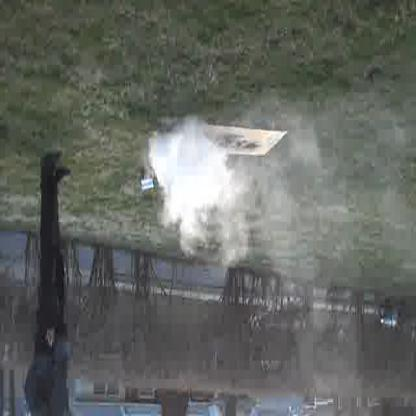Smoke: (150, 129, 254, 255)
